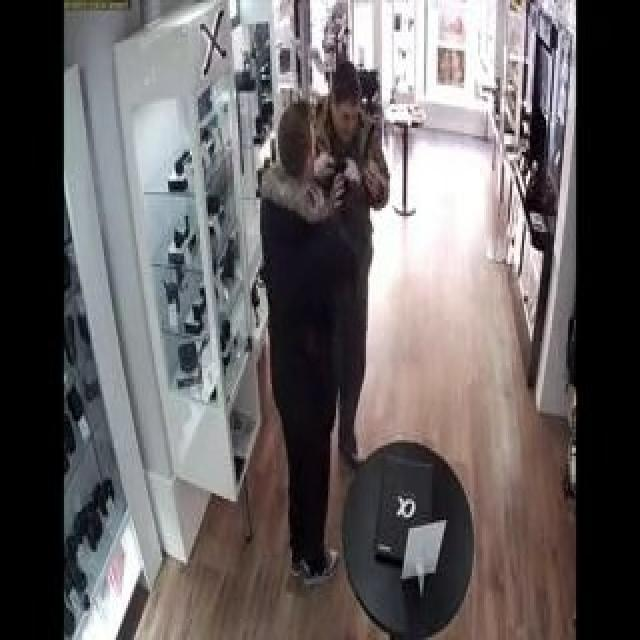Shoplifting: (270, 53, 390, 578)
